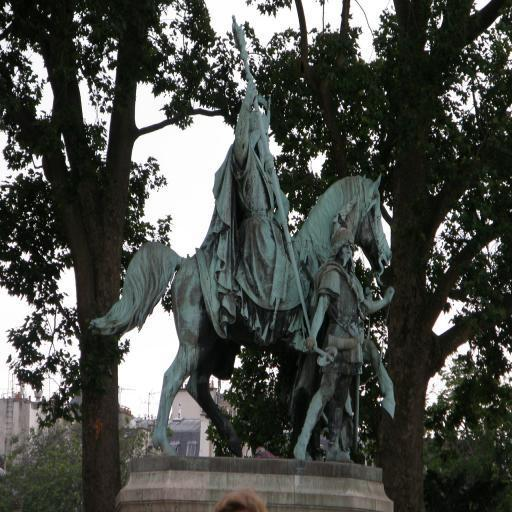horse: (90, 174, 394, 459)
